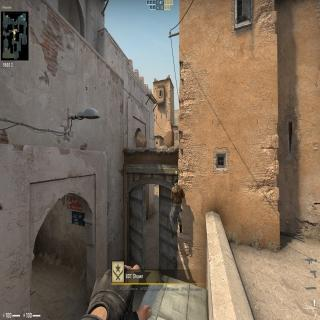T-Head: (174, 177, 179, 186)
